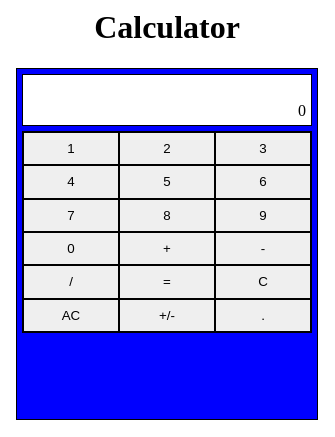
Test case: calculator should render a keyboard › with operator buttons › where a user can press -
The width and height of the screenshot is (335, 437).
What coordinates should you click on to do the following:
click the button "-"
I would click on:
 (263, 249)
Its box is [215,232,311,265].
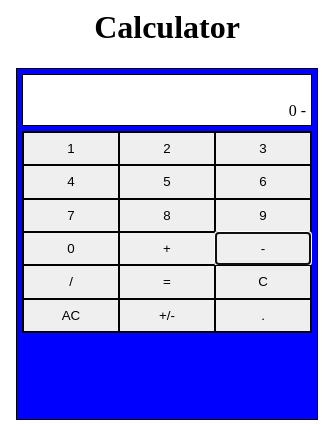
Expected: the text with test id "Display" reads "0 -", [289,102,306,119]
